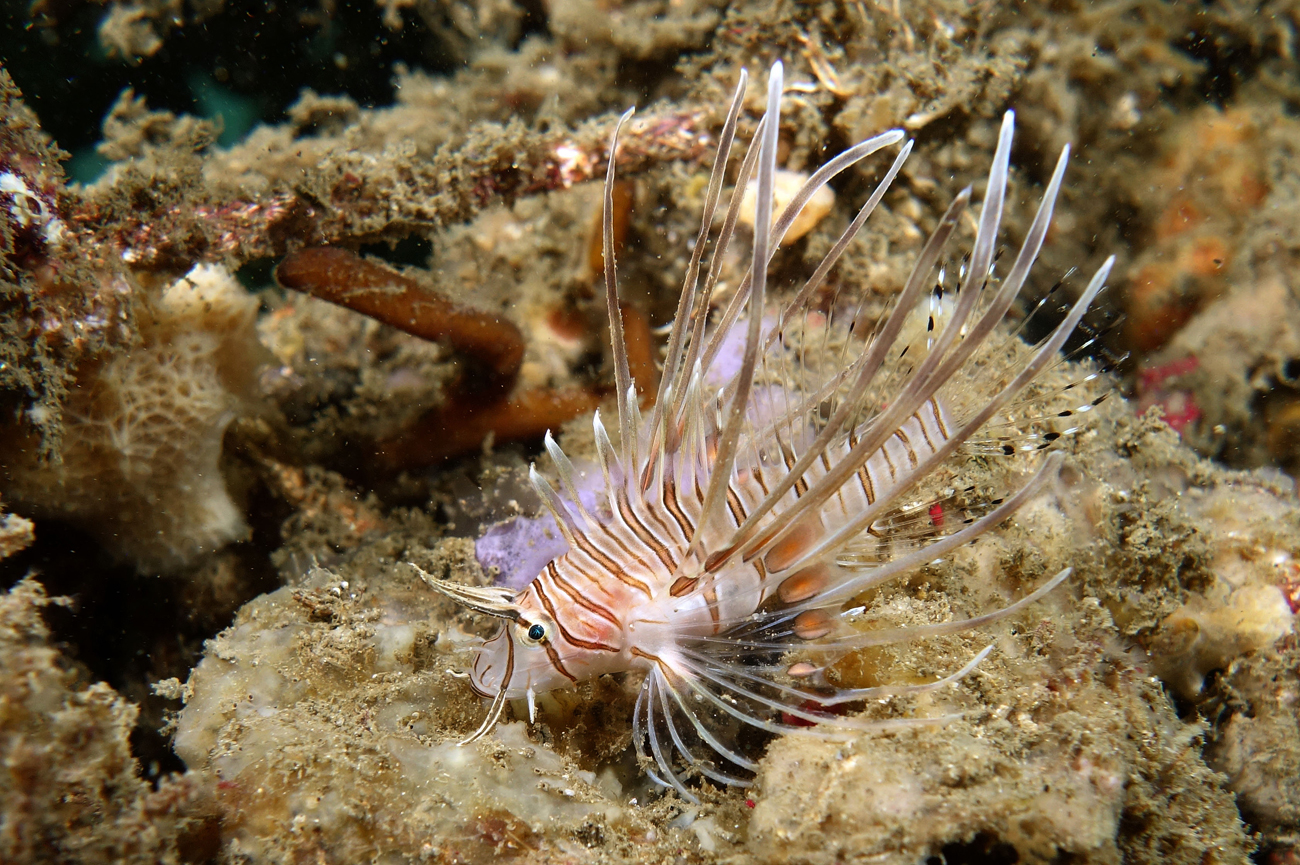Pterois_volitans: (435, 78, 1103, 842)
